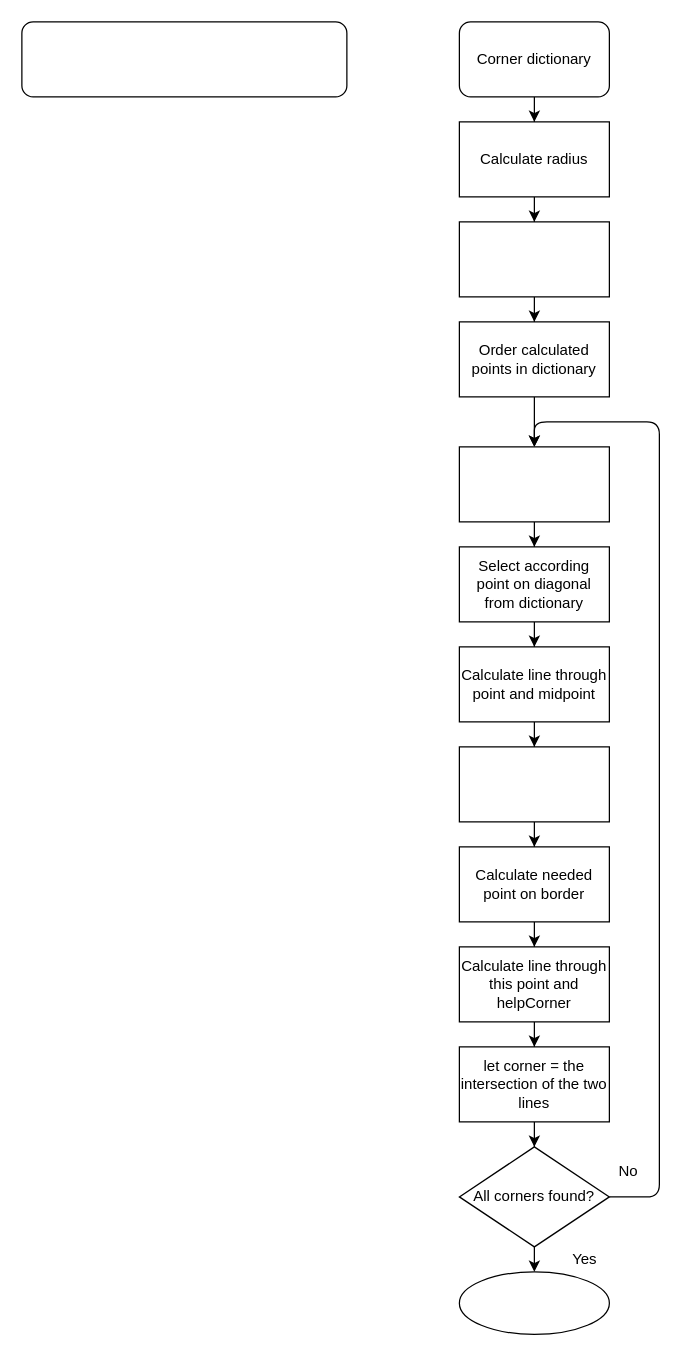
Some shapes in this 691 by 1356 pixel diagram are drawn without their labels. Each missing label, with the box of its shape:
Calculate points on diagonals around midpoint: (458, 221, 609, 297)
Overview corner reconstruction: (21, 21, 347, 97)
Return dictionary: (458, 1271, 609, 1334)
Search a missing corner: (458, 446, 609, 522)
Search known adjacent corner = helpCorner: (458, 746, 609, 822)
